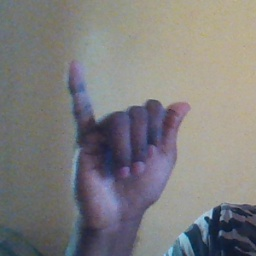J: (61, 60, 190, 218)
